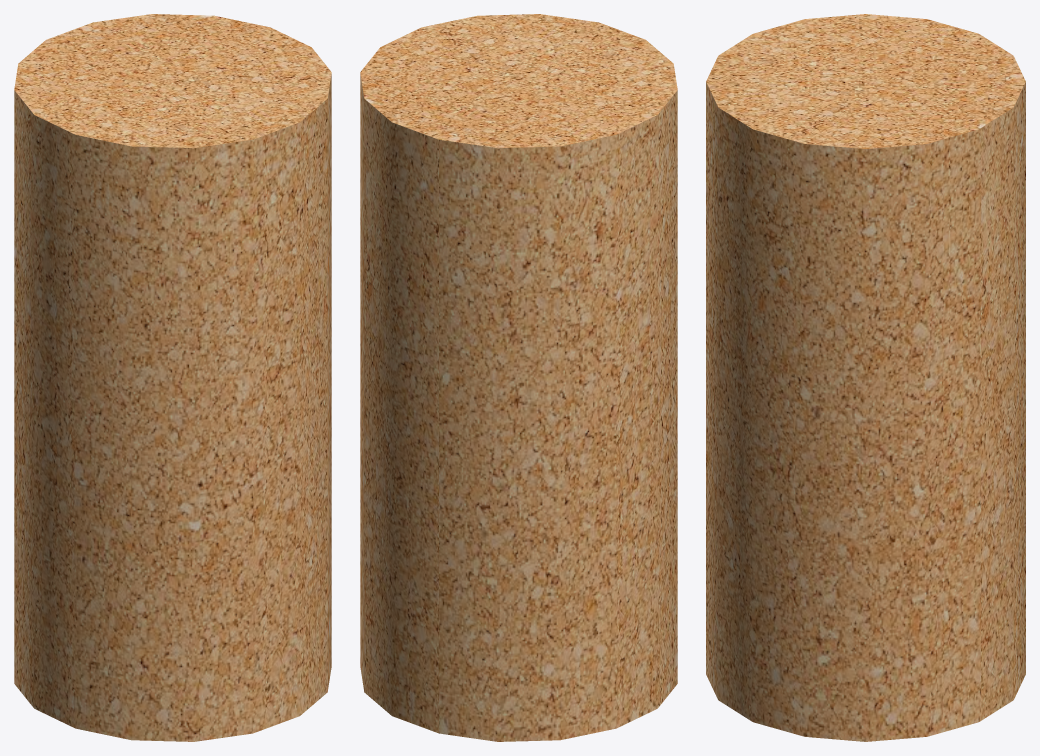
File: Korken.fbx
The picture shows the model from 3 angles, left to right: view 1: azimuth 30°, elevation 25°; view 2: azimuth 150°, elevation 25°; view 3: azimuth 270°, elevation 25°; orthographic projection.
Visible parts, largest first — view 1: Cylinder; view 2: Cylinder; view 3: Cylinder.
Boxes of the visible parts, x1,y1,x2,y2 form: Cylinder: (14,14,331,741); Cylinder: (360,14,677,741); Cylinder: (706,14,1025,741).
Bounding box in the file's own units: 2.2 × 4.5 × 2.2.
